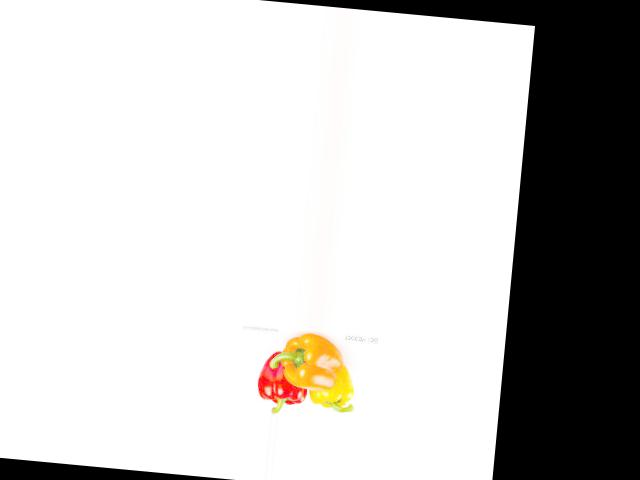bell_pepper: (305, 359, 360, 416)
